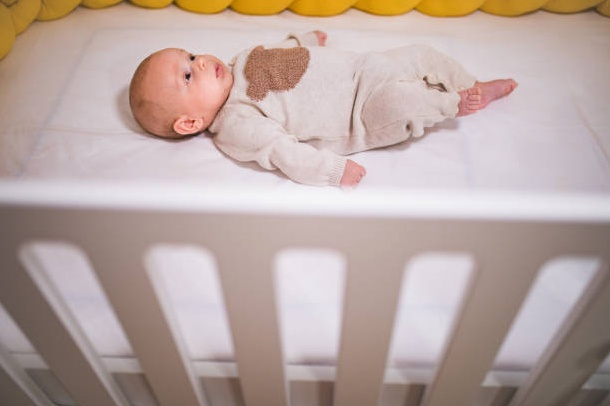baby: (130, 31, 516, 186)
crib: (0, 0, 609, 405)
